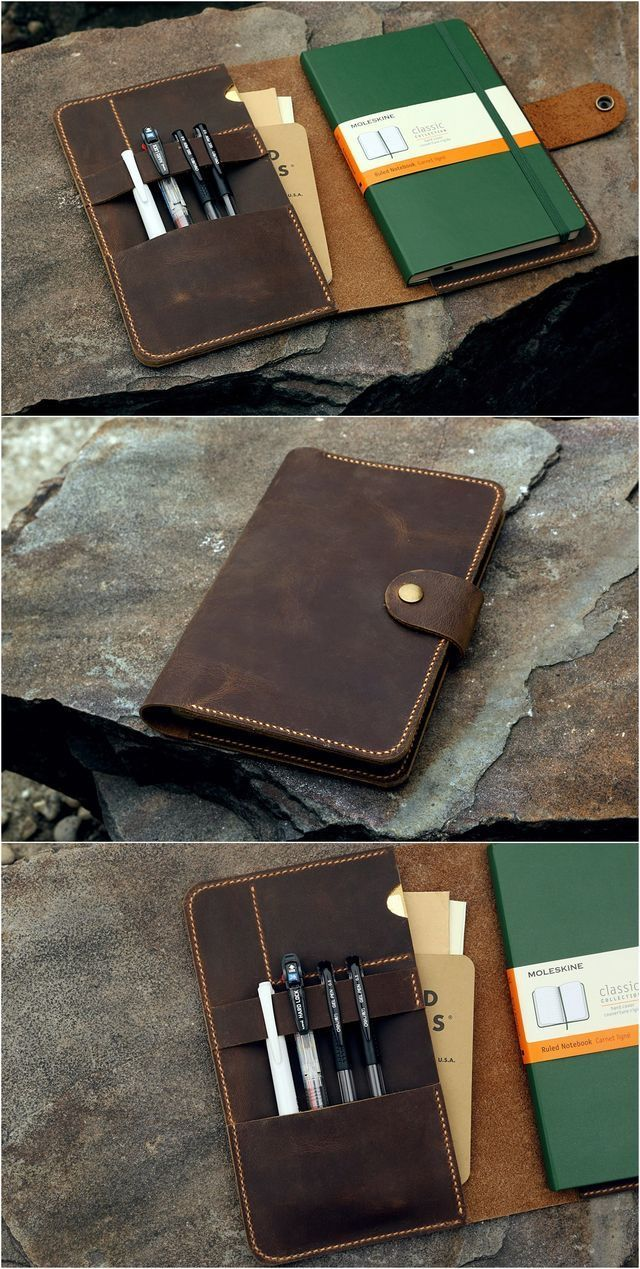cuero: (51, 17, 640, 1267)
